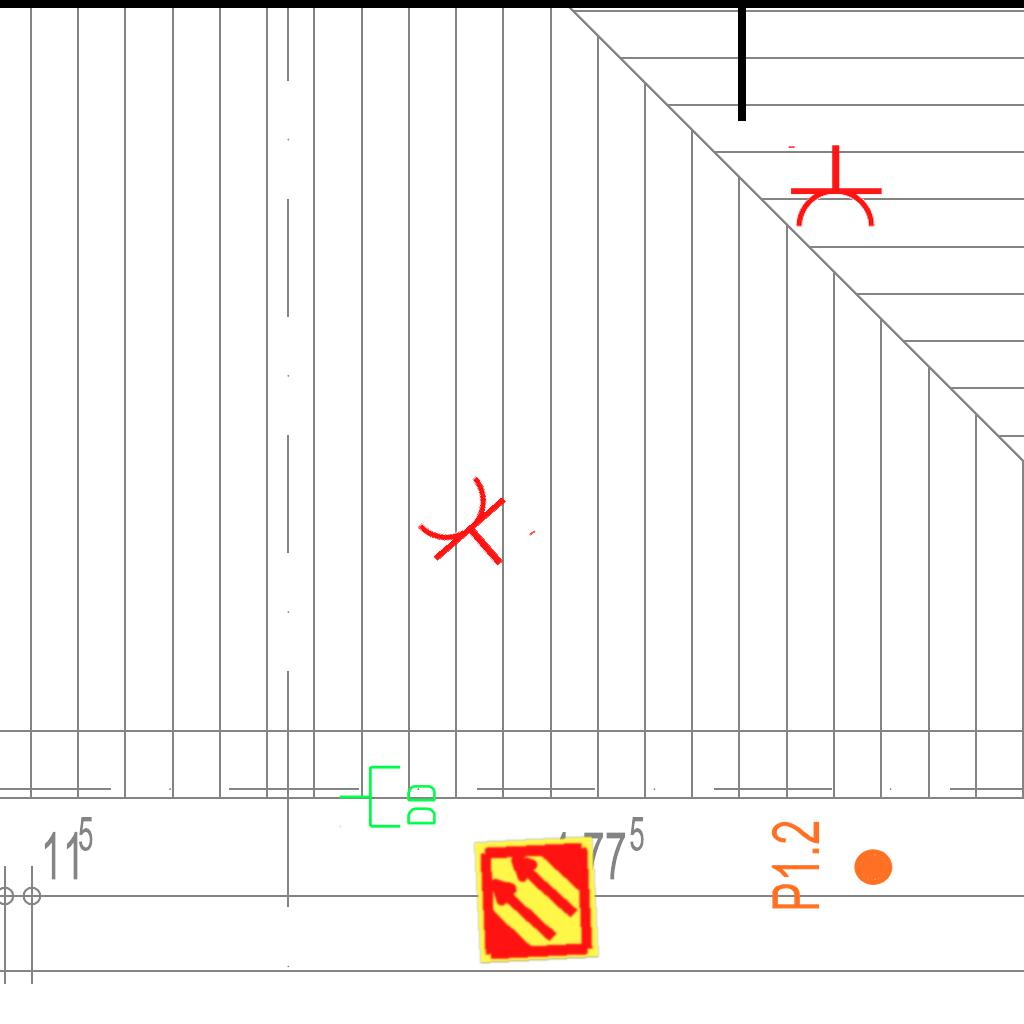ASR_Ansaugrauchmelder: (470, 833, 603, 966)
Datenanschluss_zweifach: (337, 763, 440, 832)
Downlight_LED_Einbauleuchten_Flur: (768, 819, 896, 912)
Schukosteckdose_einfach: (408, 465, 541, 597), (784, 143, 884, 230)
